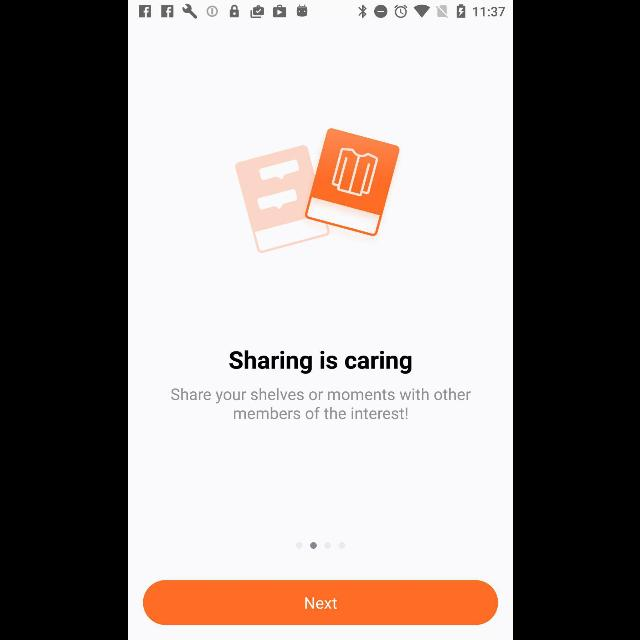image: (234, 128, 400, 255)
pageindicator: (295, 542, 345, 548)
text: (170, 386, 470, 419), (228, 350, 412, 374)
textbutton: (142, 580, 498, 626)
uppertaskbar: (128, 1, 512, 23)
